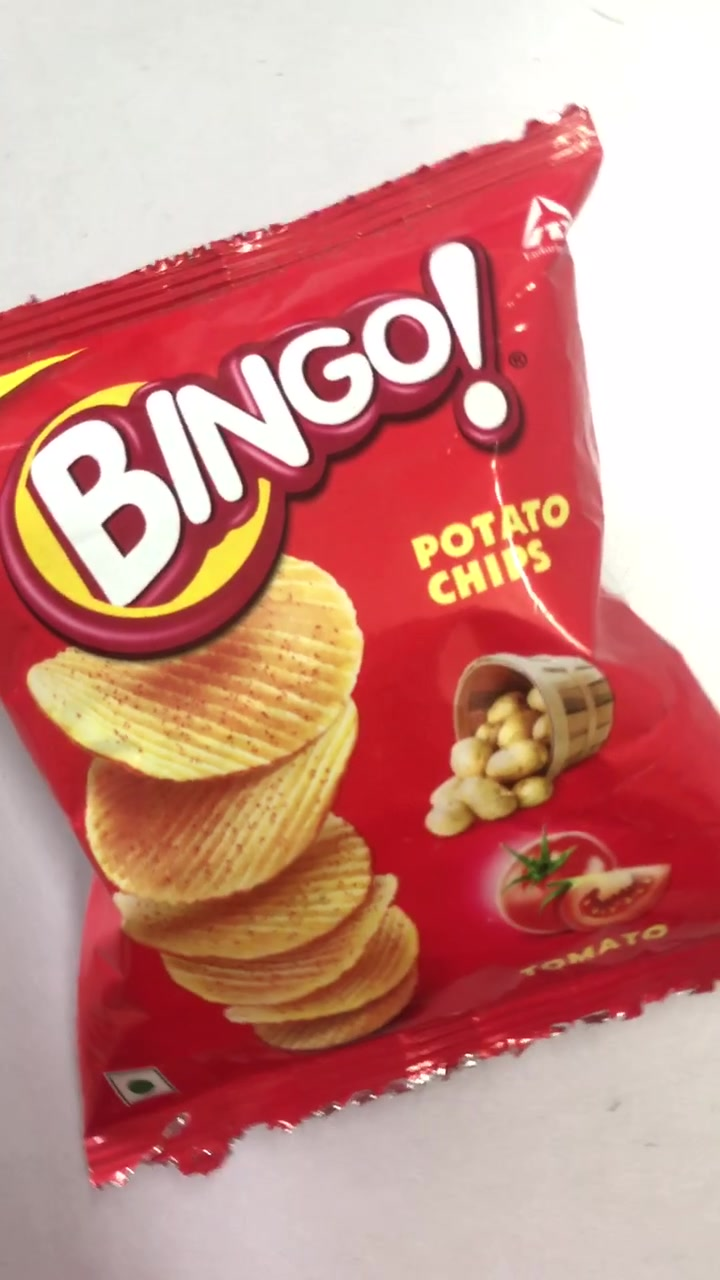Bingo: (1, 143, 719, 1162)
